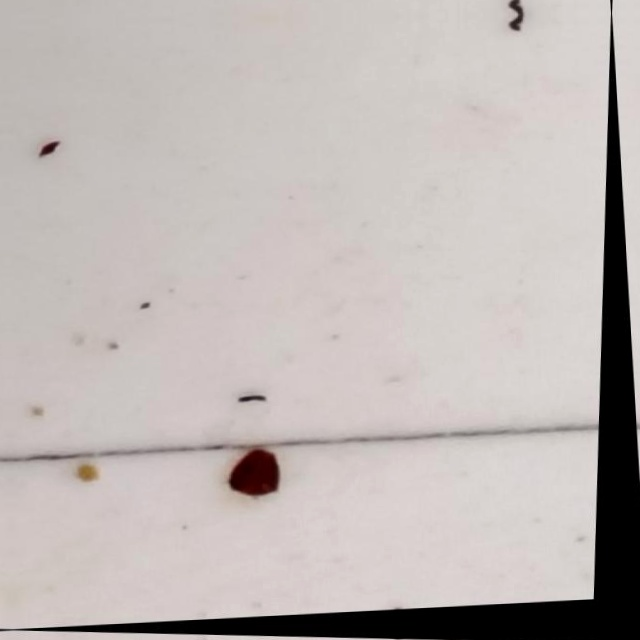varroa: (233, 451, 291, 501)
